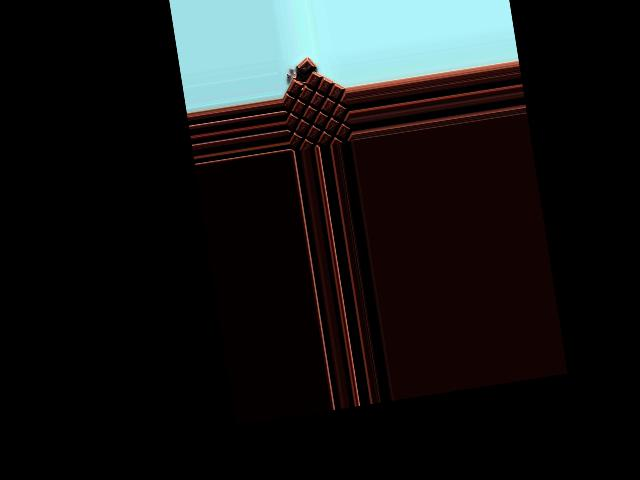chocolate: (279, 62, 351, 152)
